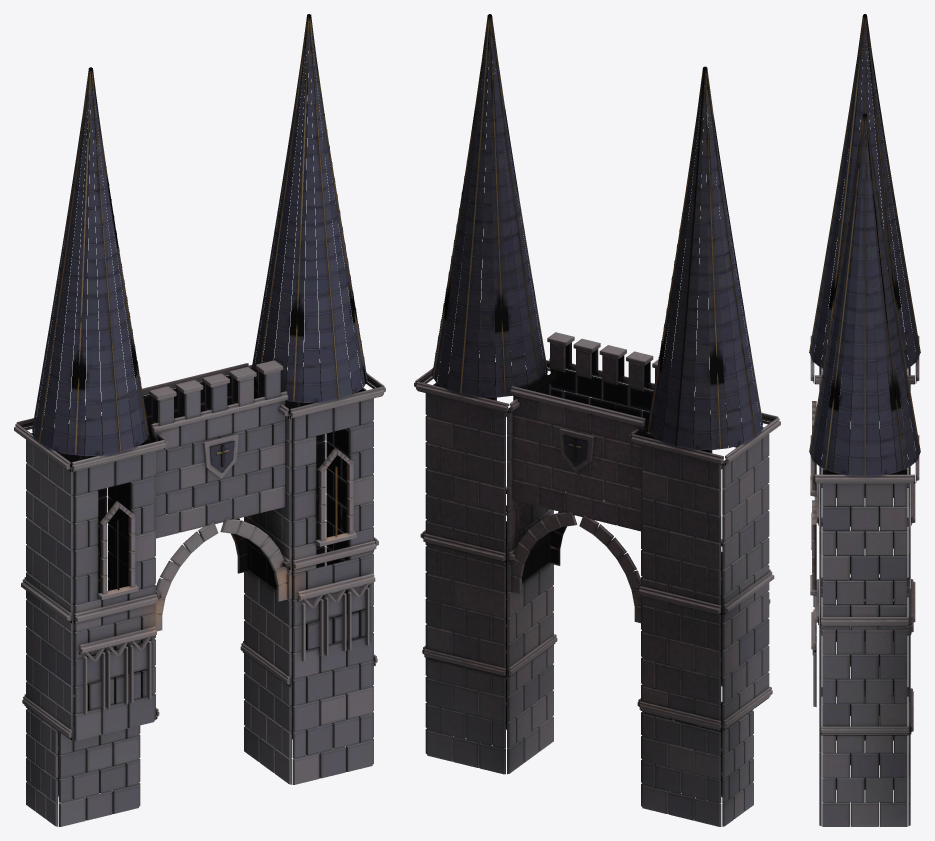
Rendered from gatehouse_skin.glb.
3 views of the same model, side by side, from view 1: azimuth 30°, elevation 25°; view 2: azimuth 150°, elevation 25°; view 3: azimuth 270°, elevation 25° (orthographic). The views are drawn at different scales.
Visible parts, largest first — view 1: gatehouse_skin.001; view 2: gatehouse_skin.001; view 3: gatehouse_skin.001.
Boxes of the visible parts, bbox=[...] form: gatehouse_skin.001: bbox=[14, 14, 385, 826]; gatehouse_skin.001: bbox=[414, 14, 780, 826]; gatehouse_skin.001: bbox=[809, 14, 920, 826].
Bounding box in the file's own units: 12.1 × 26.7 × 3.9.
1 material, 1 textured.
